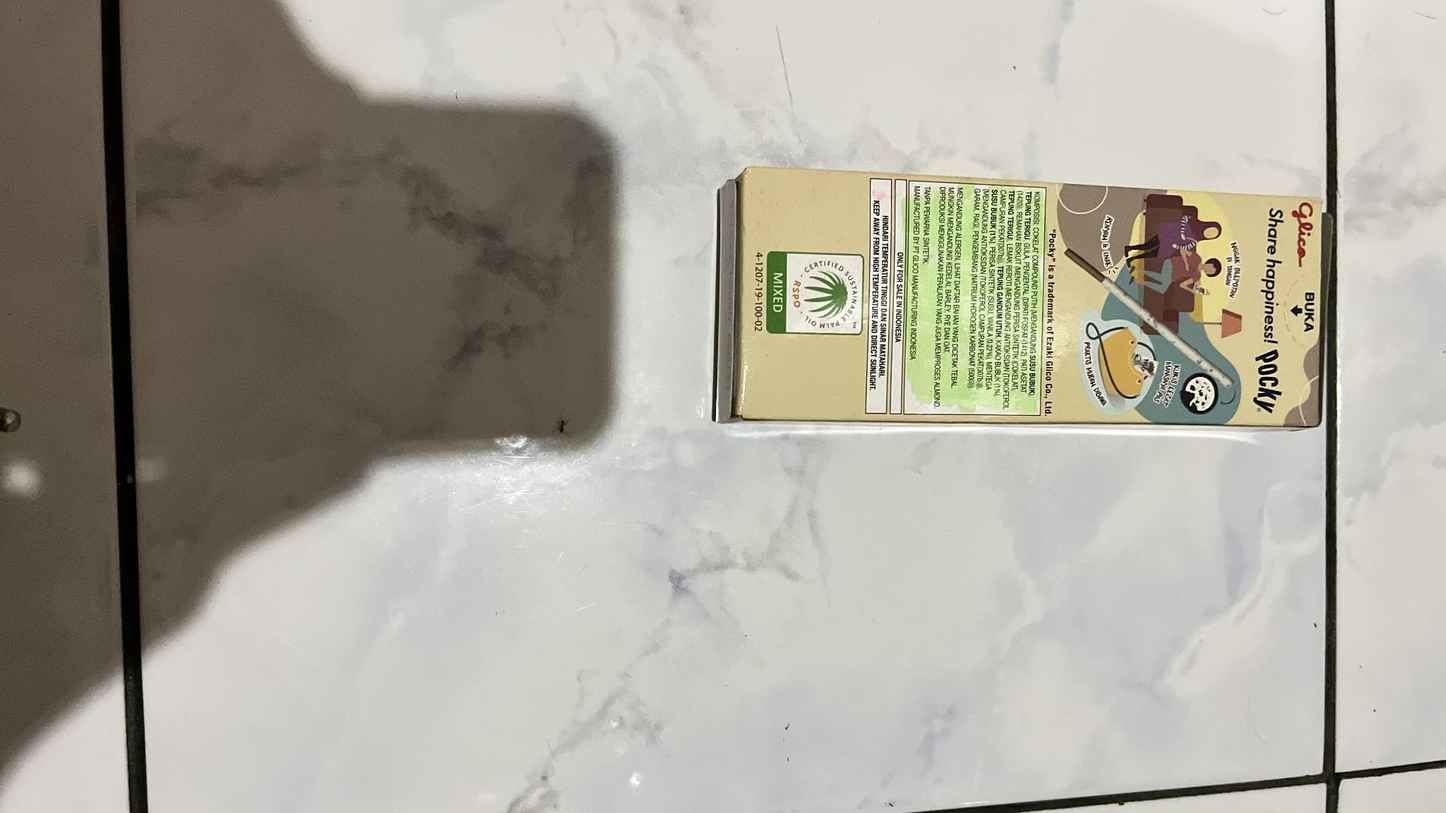Kertas: (730, 165, 1316, 430)
